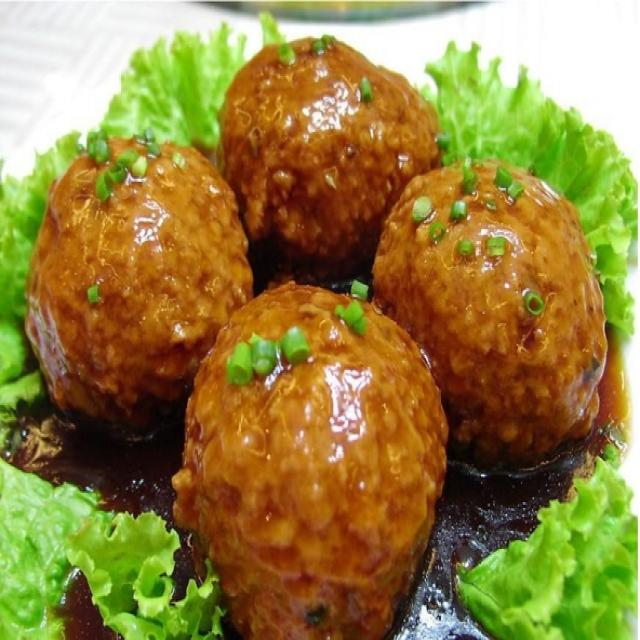meatball: (166, 274, 453, 638), (22, 121, 260, 448), (363, 158, 609, 473), (207, 20, 440, 285)
